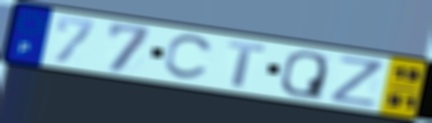7: (104, 20, 153, 75), (53, 14, 97, 65)
C: (161, 34, 218, 82)
Q: (278, 50, 330, 101)
T: (226, 40, 269, 90)
Z: (329, 54, 386, 110)
